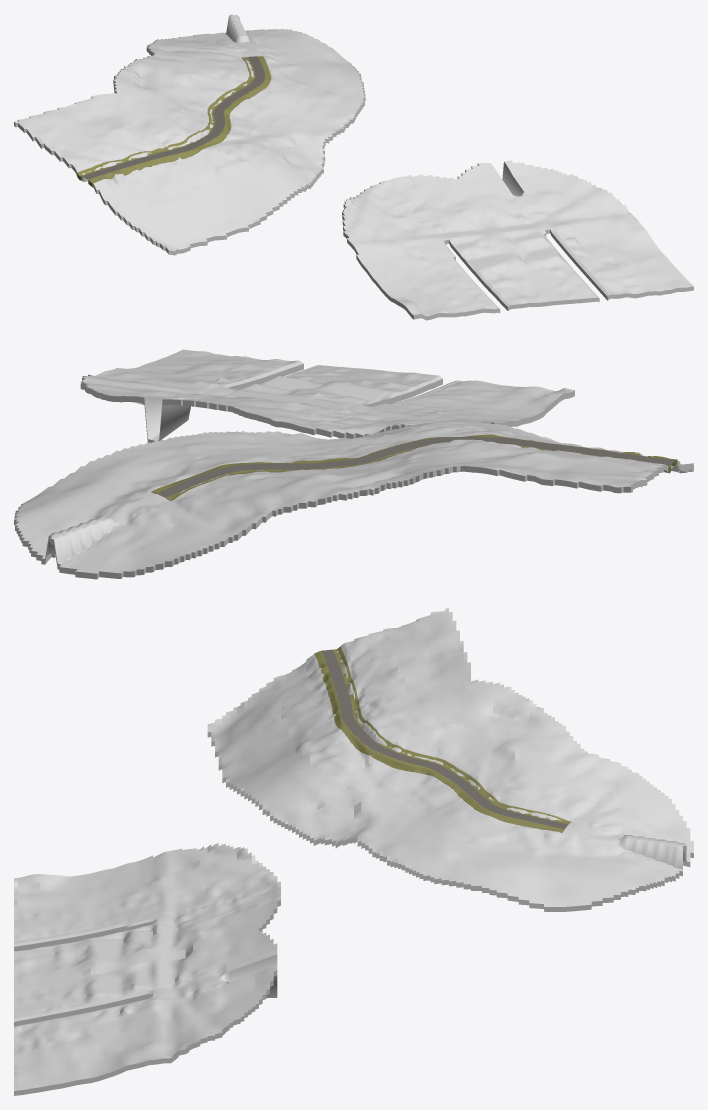
The model's file is conz_72.glb.
The picture shows the model from 3 angles, top to bottom: view 1: azimuth 30°, elevation 25°; view 2: azimuth 150°, elevation 25°; view 3: azimuth 270°, elevation 25°; orthographic projection. The views are drawn at different scales.
Visible parts, largest first — view 1: terrain72, road72, verge72R, verge72L; view 2: terrain72, road72, verge72R, verge72L; view 3: terrain72, road72, verge72R, verge72L.
Boxes of the visible parts, box(x1,y1,x2,y2) form: terrain72: box(14, 14, 693, 320); road72: box(82, 56, 265, 179); verge72R: box(88, 56, 271, 187); verge72L: box(77, 57, 255, 180); terrain72: box(14, 349, 693, 579); road72: box(157, 437, 674, 497); verge72R: box(151, 434, 677, 493); verge72L: box(166, 439, 670, 500); terrain72: box(14, 608, 693, 1095); road72: box(321, 649, 568, 828); verge72R: box(314, 651, 564, 832); verge72L: box(333, 647, 570, 824).
Size of the model in its own units: 382 by 116 by 372.
